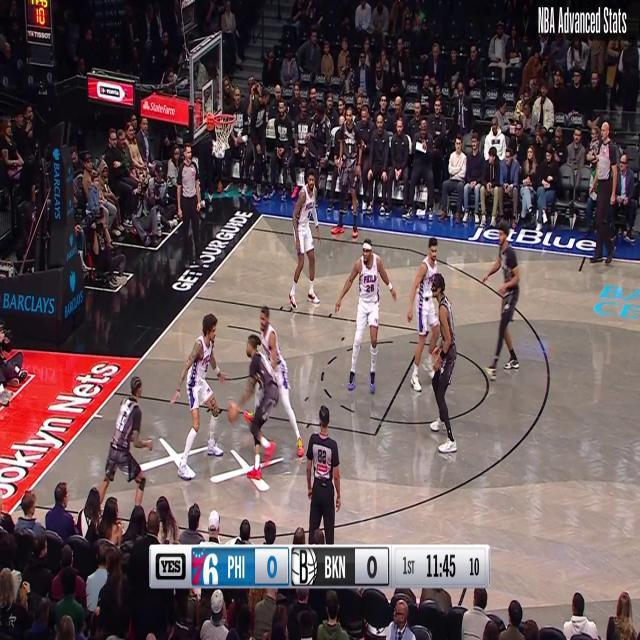ball: (228, 393, 242, 426)
player: (168, 312, 228, 482), (334, 237, 398, 396), (90, 372, 152, 520), (229, 333, 280, 491), (256, 303, 306, 459), (481, 218, 521, 382), (428, 264, 460, 464), (408, 239, 448, 395), (288, 165, 322, 313), (332, 106, 360, 241)
